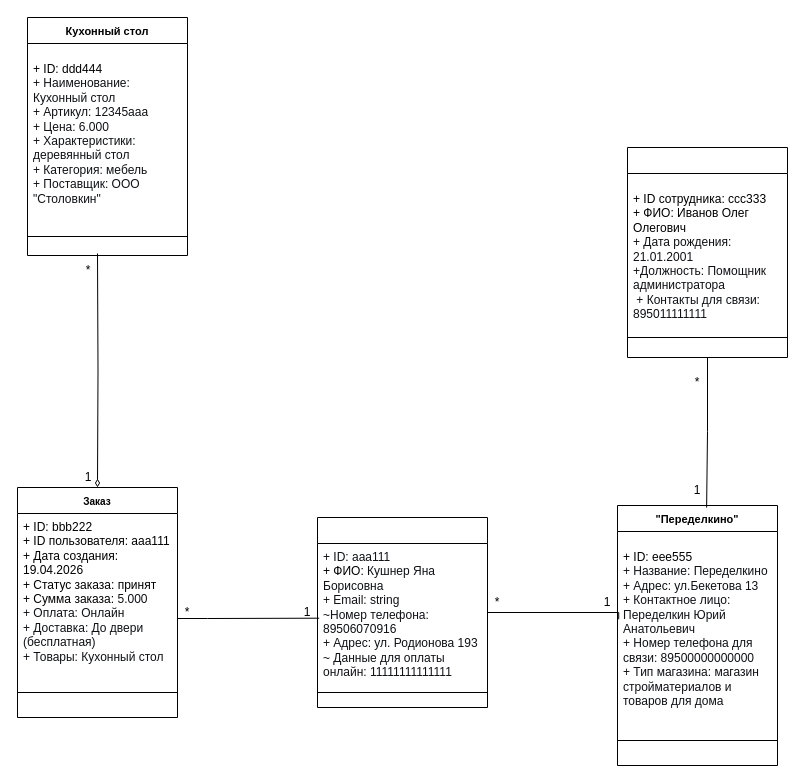
This 805x783 diagram has some shape labels left out. The shapes that lost their labels are listed below. From the top down, each one's box as (x1, y1, x2, y2) in pixels, then its label:
(626, 146, 788, 358): Иванов Олег Олегович (сотрудник)
(316, 516, 488, 708): Яна (пользователь)
